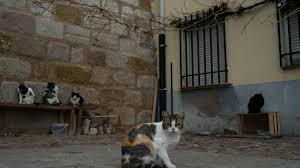cat: (115, 104, 193, 168)
